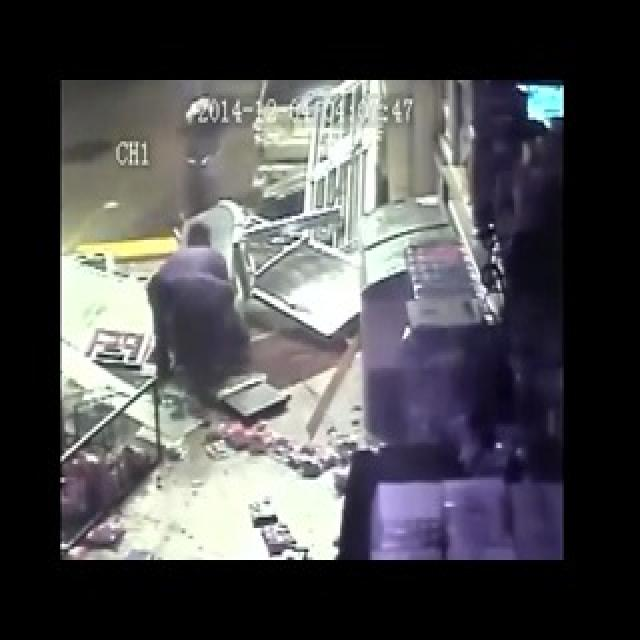thief: (168, 94, 242, 227)
